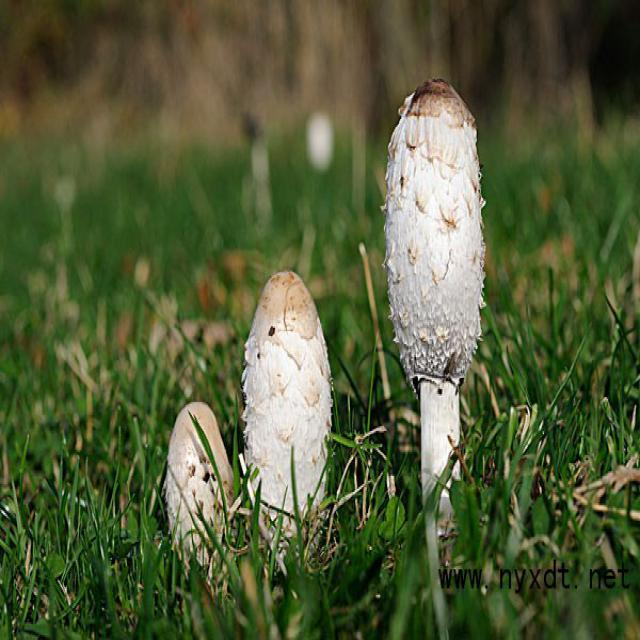Coprinus comatus: (383, 78, 485, 511), (241, 268, 329, 539), (159, 398, 232, 556)
